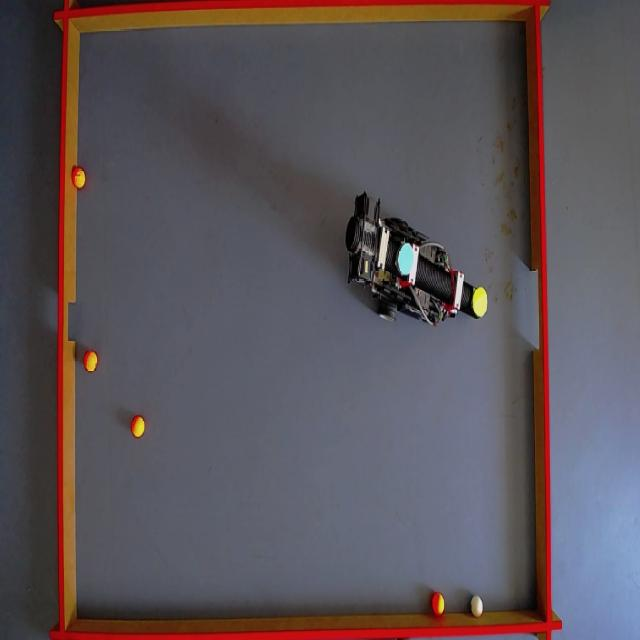orange: (131, 416, 146, 438), (433, 593, 446, 615), (85, 353, 99, 373), (74, 168, 88, 187)
robot: (337, 198, 496, 329)
robot-front: (471, 285, 490, 316)
robot-rear: (396, 244, 414, 278)
white: (472, 596, 486, 619)
